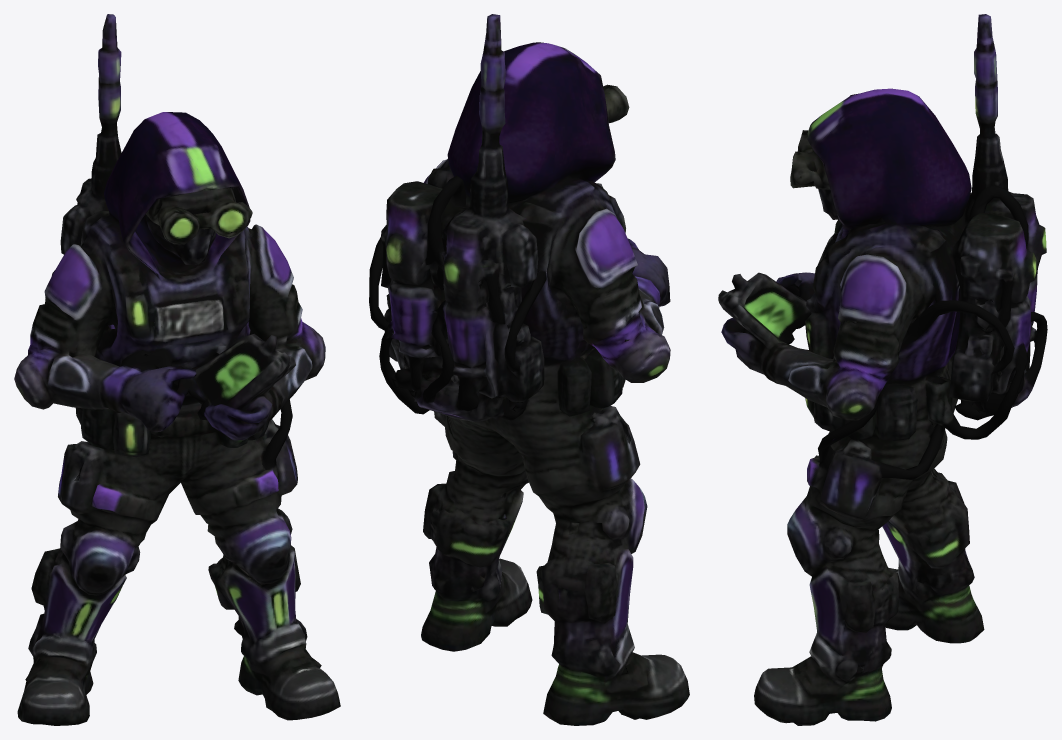
File: recon_l04.glb
3 views of the same model, side by side, from view 1: azimuth 30°, elevation 25°; view 2: azimuth 150°, elevation 25°; view 3: azimuth 270°, elevation 25° (orthographic). The views are drawn at different scales.
Visible parts, largest first — view 1: world; view 2: world; view 3: world.
Boxes of the visible parts, bbox=[...] form: world: bbox=[14, 14, 340, 725]; world: bbox=[369, 14, 689, 725]; world: bbox=[718, 14, 1047, 725].
Size of the model in its own units: 0.4491 by 1 by 0.4616.
Materials: 1 (1 with a texture image).
